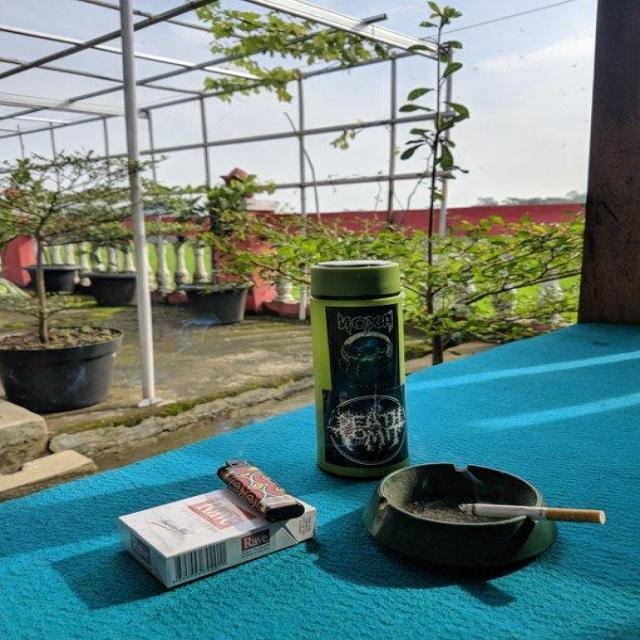rokok: (453, 492, 609, 524)
